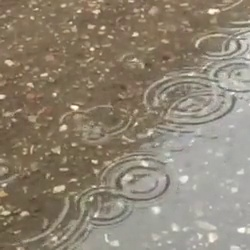drop: (145, 74, 236, 128), (1, 198, 90, 249), (103, 154, 172, 202), (75, 185, 132, 225), (206, 57, 250, 94), (85, 105, 131, 136), (197, 33, 244, 59), (61, 110, 89, 133), (1, 159, 19, 184), (81, 124, 106, 142)
